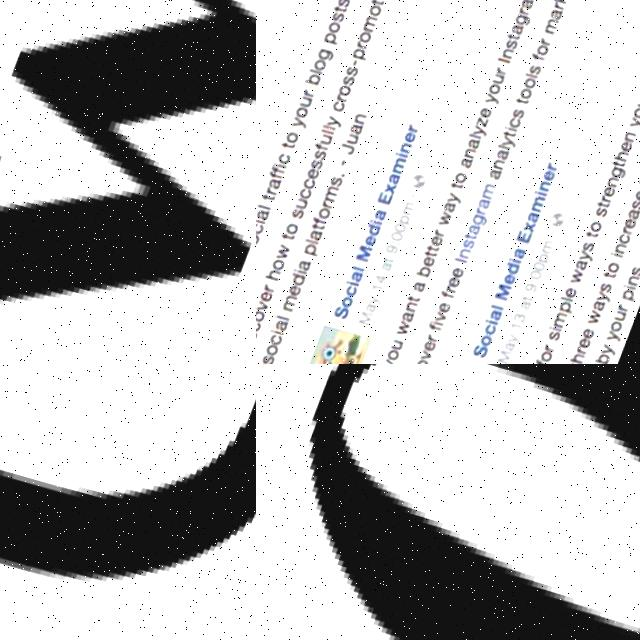0: (382, 272, 399, 285)
5: (533, 282, 550, 296), (392, 244, 409, 257)
A: (256, 364, 640, 640)
W: (0, 0, 256, 364)
